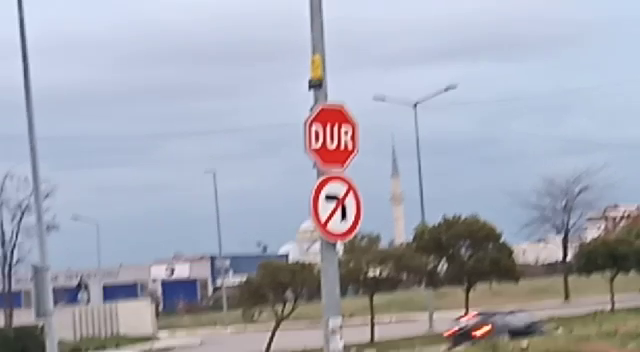no_left: (307, 174, 365, 247)
stop: (301, 100, 364, 174)
